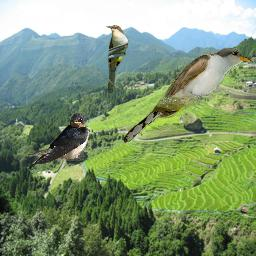Cuckoo: (121, 46, 256, 143), (106, 25, 129, 93)
Swallow: (25, 113, 89, 164)
